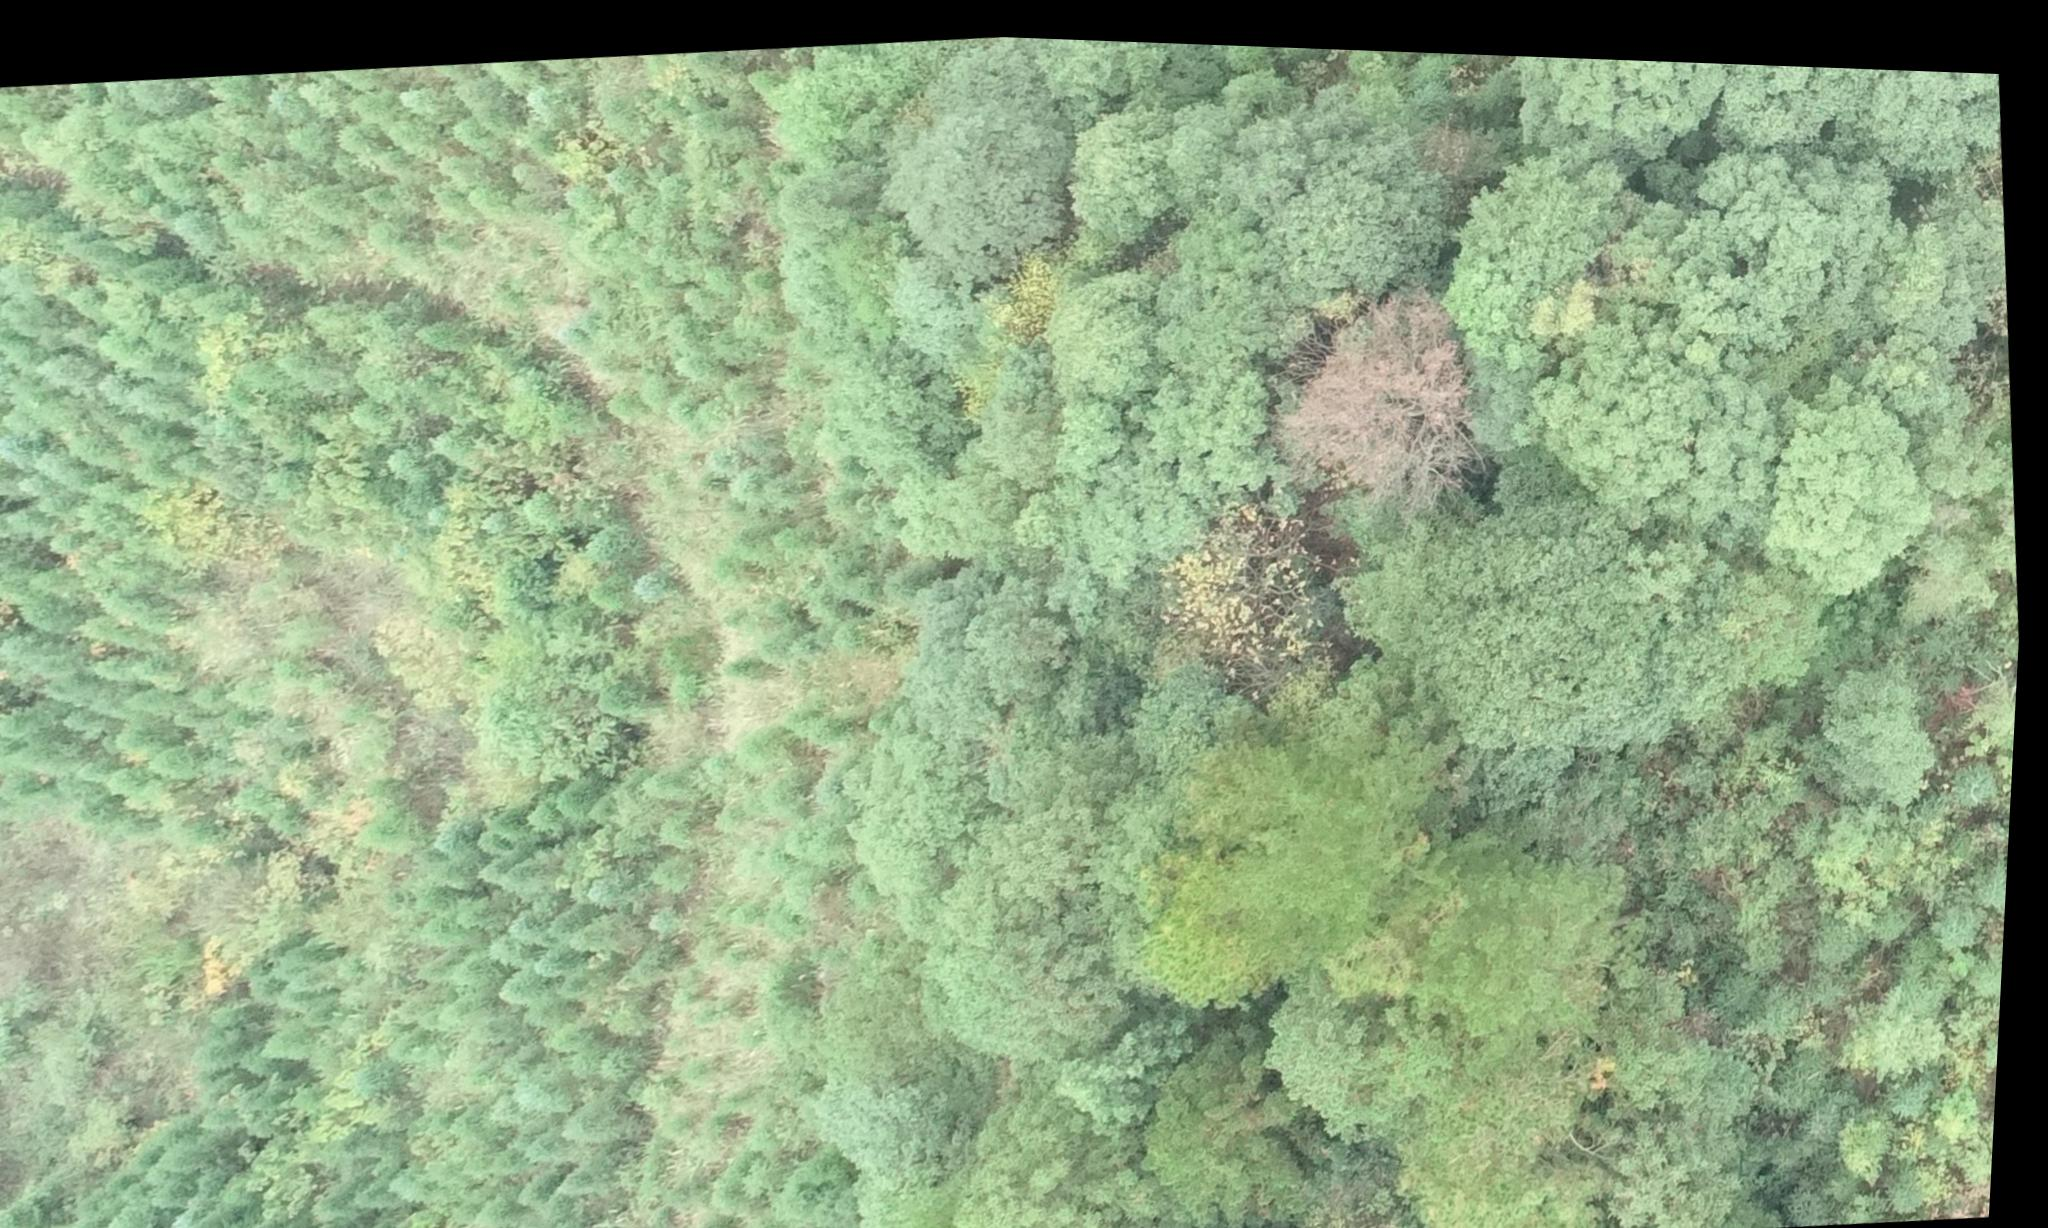heavy: (1267, 256, 1498, 501)
